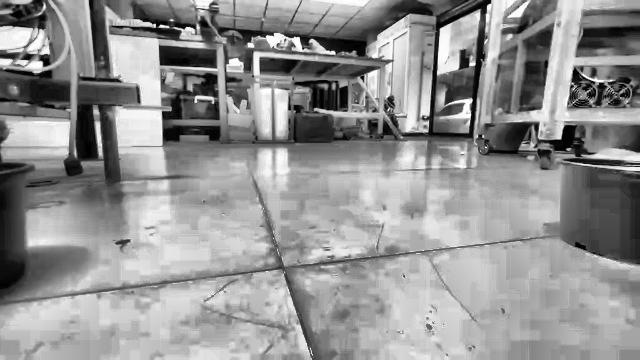pot: (559, 157, 639, 264), (0, 162, 34, 289)
